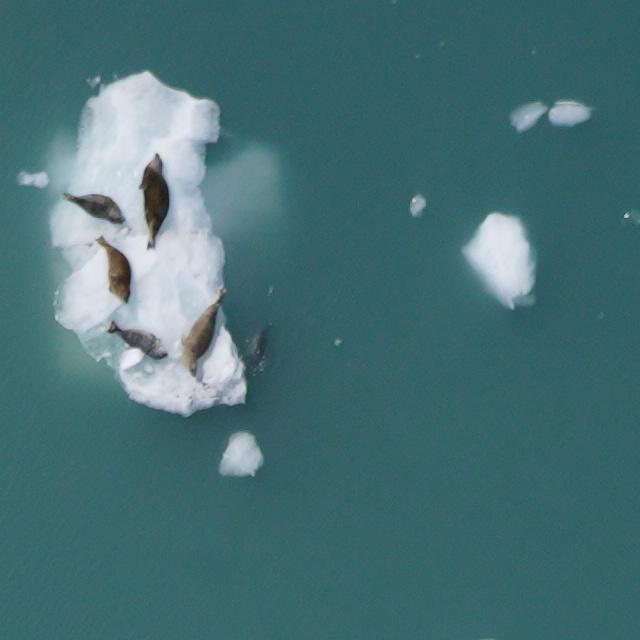seal: (173, 283, 234, 379), (132, 152, 177, 248), (97, 232, 137, 306), (107, 315, 170, 361), (61, 188, 129, 225), (241, 320, 280, 363)
